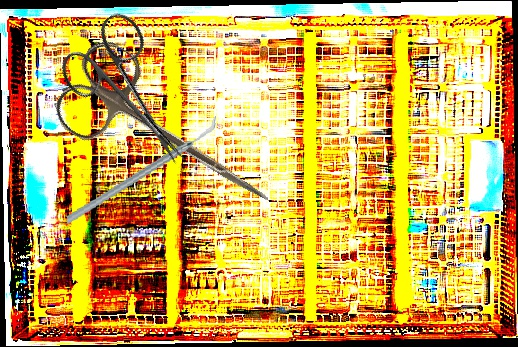Chopper: (54, 115, 229, 225)
Iris Scissors: (47, 33, 296, 238), (50, 6, 219, 189)
